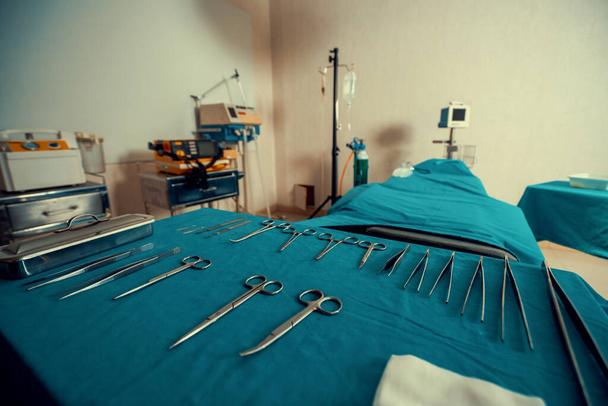Monitor: (434, 100, 473, 134)
Saline Stand: (310, 33, 360, 227)
bed: (324, 135, 535, 287)
tools_table: (0, 194, 608, 406), (515, 162, 608, 269)
